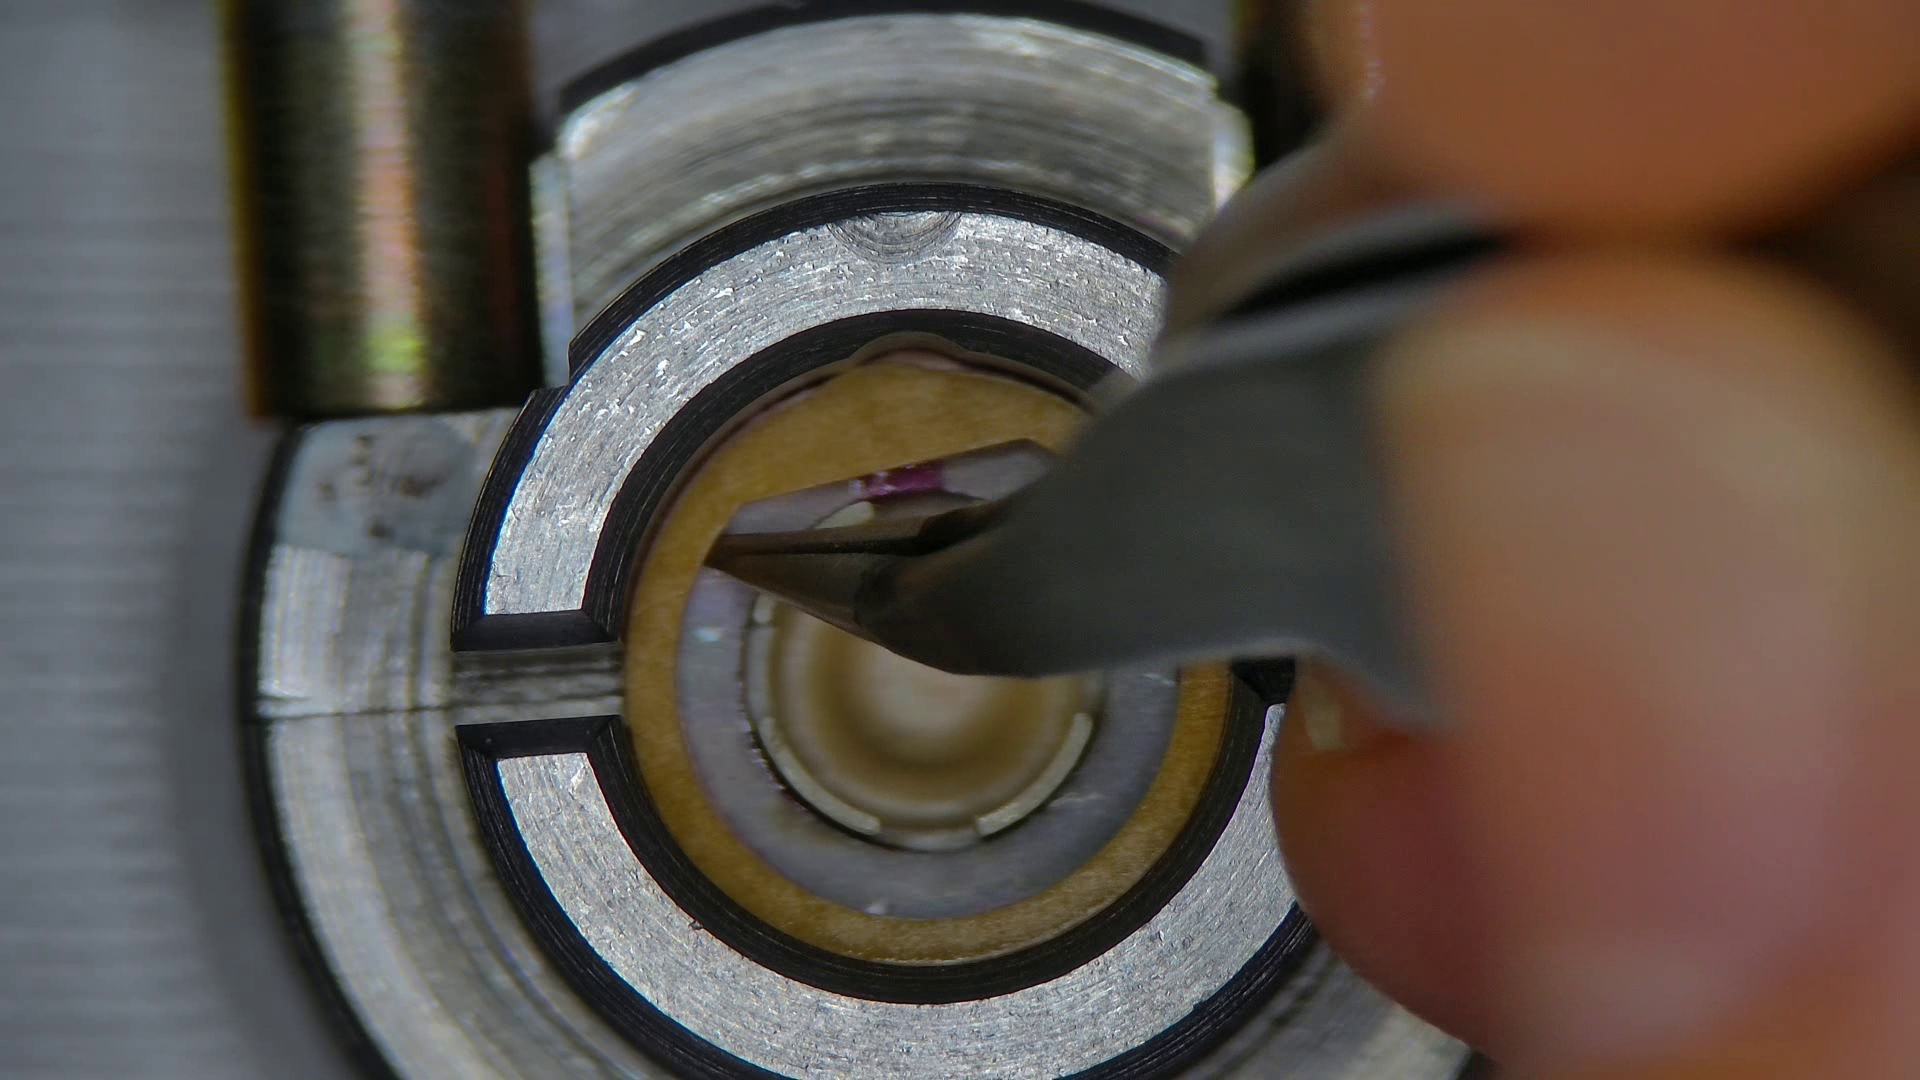YellowOring: (680, 572, 1172, 918), (729, 439, 1052, 534)
redOring: (625, 357, 1233, 960)
